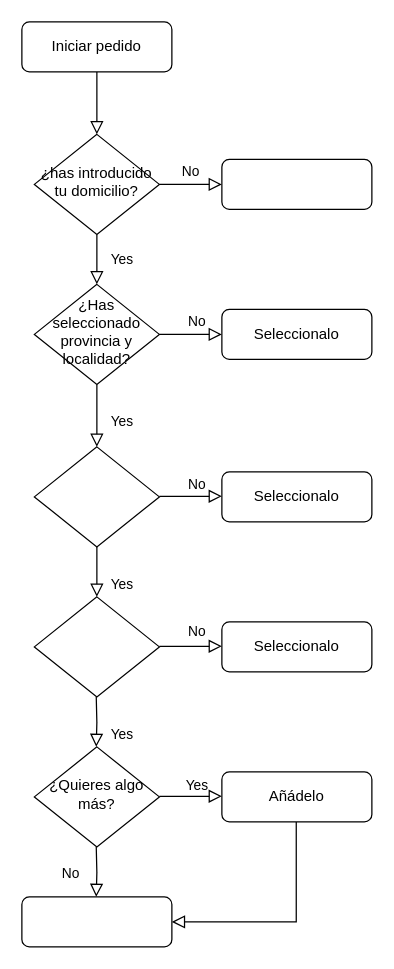
This 394x969 diagram has some shape labels left out. Each missing label, with the centre of its shape:
"Has finalizado tu pedido" goes at point 96,921.
"Introducelo" goes at point 296,183.
"¿Has seleccionado la masa que quieres?" goes at point 96,646.
"¿Has seleccionado las pizzas que quieres?" goes at point 96,496.
